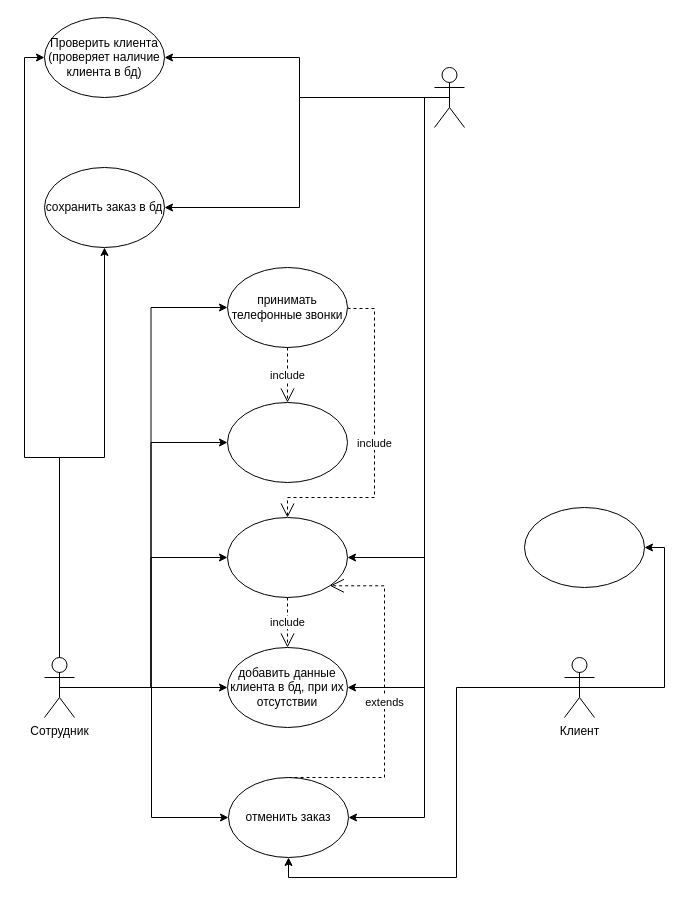
The diagram is 690 pixels wide and 903 high, and some of its shapes have lost their labels. Here are the shapes that lost their labels. From the top down, the centre of each, then its label:
(x=449, y=97): Инф. система
(x=287, y=442): предоставить данные клиенту
(x=287, y=557): оформить заказ
(x=584, y=547): сделать заказ
